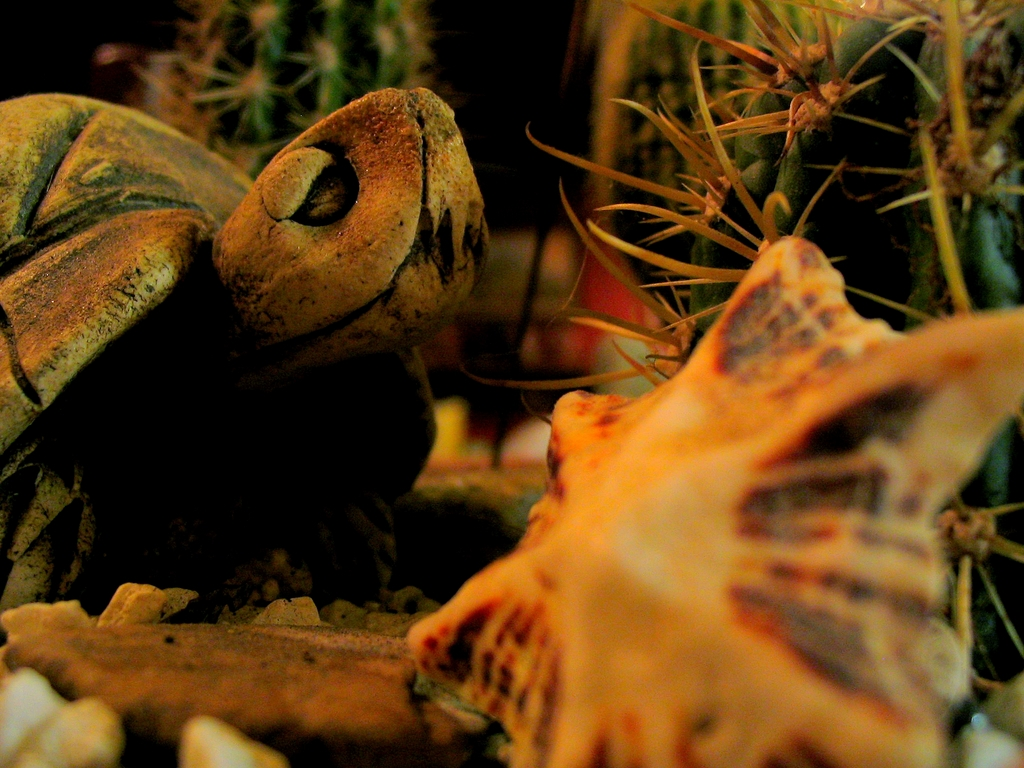Sea turtles: (0, 88, 491, 611)
